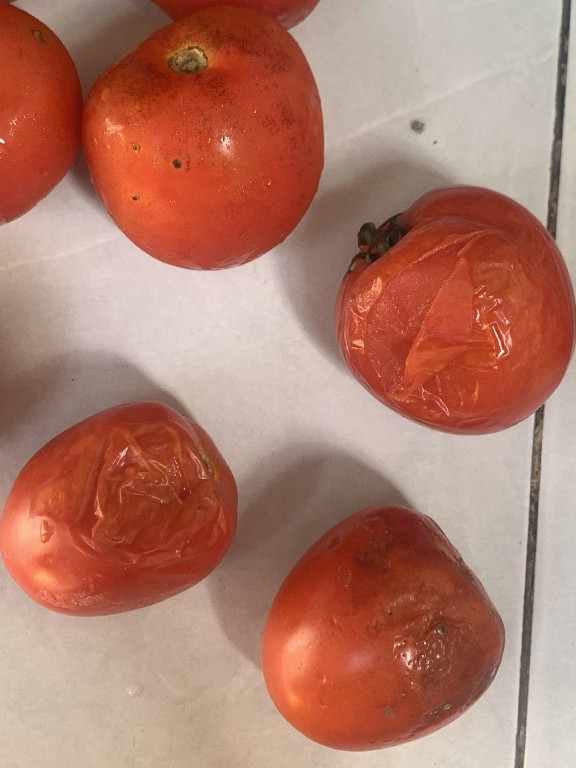NG: (71, 3, 342, 286), (262, 500, 524, 757), (340, 168, 576, 450), (3, 382, 254, 626)
